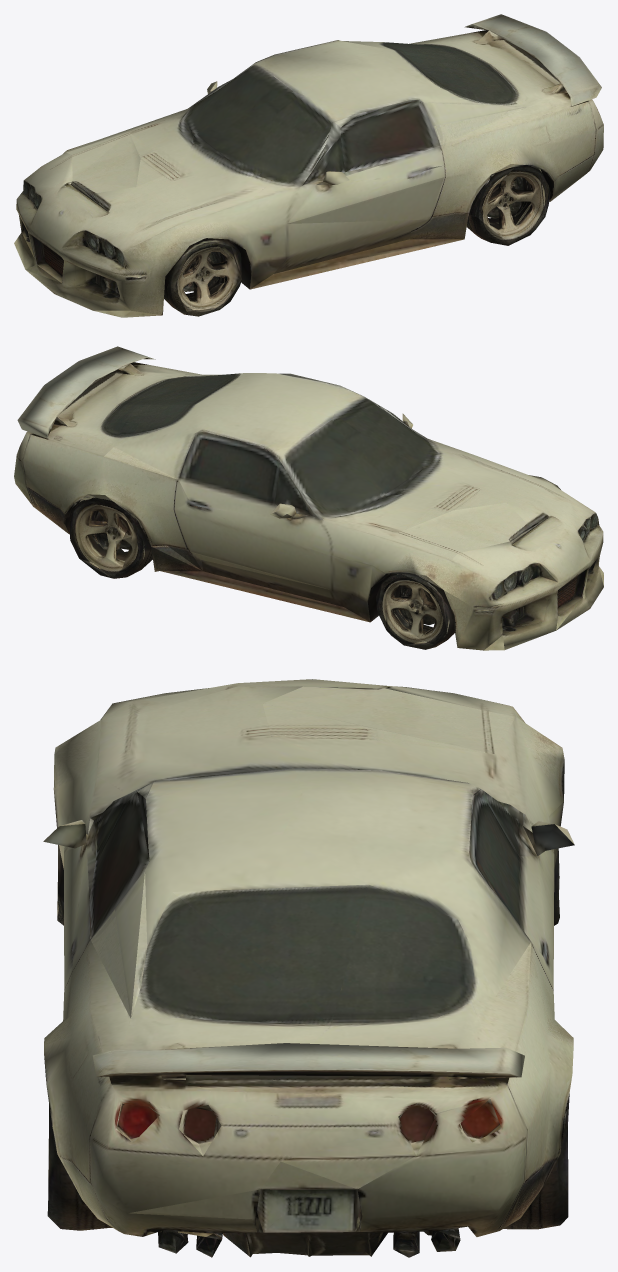
The model's file is car_sports_light.glb.
The picture shows the model from 3 angles, top to bottom: view 1: azimuth 30°, elevation 25°; view 2: azimuth 150°, elevation 25°; view 3: azimuth 270°, elevation 25°; orthographic projection. The views are drawn at different scales.
Visible parts, largest first — view 1: output_unwrapped; view 2: output_unwrapped; view 3: output_unwrapped.
Boxes of the visible parts, x1,y1,x2,y2 form: output_unwrapped: (14, 14, 603, 317); output_unwrapped: (14, 346, 603, 650); output_unwrapped: (43, 679, 574, 1257).
Bounding box in the file's own units: 4.39 × 1.25 × 1.94.
Materials: 1 (1 with a texture image).
